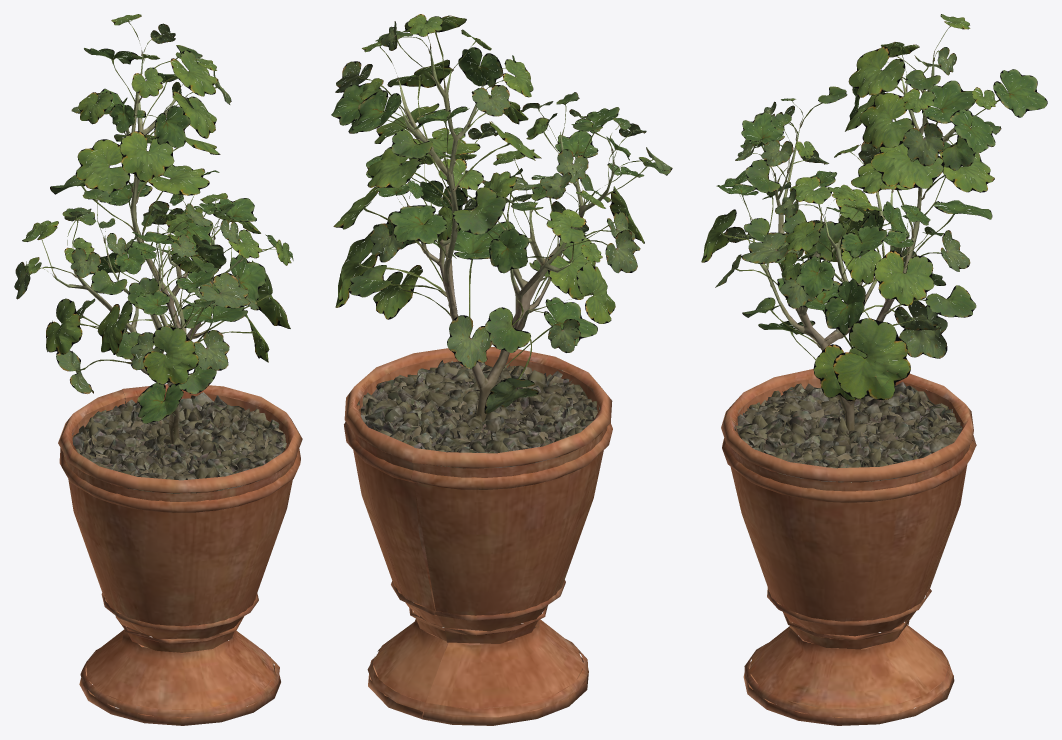
The model's file is potted_plant_01.glb.
The picture shows the model from 3 angles, left to right: view 1: azimuth 30°, elevation 25°; view 2: azimuth 150°, elevation 25°; view 3: azimuth 270°, elevation 25°; orthographic projection. The views are drawn at different scales.
Visible parts, largest first — view 1: potted_plant_01_pot, potted_plant_01_leaves, potted_plant_01_pebbles, potted_plant_01_stem; view 2: potted_plant_01_pot, potted_plant_01_leaves, potted_plant_01_pebbles, potted_plant_01_stem; view 3: potted_plant_01_pot, potted_plant_01_leaves, potted_plant_01_pebbles, potted_plant_01_stem.
Part boxes in pixels (x1=…): potted_plant_01_pot: x1=58, y1=384, x2=302, y2=725; potted_plant_01_leaves: x1=14, y1=14, x2=293, y2=423; potted_plant_01_pebbles: x1=72, y1=392, x2=288, y2=493; potted_plant_01_stem: x1=54, y1=54, x2=244, y2=443; potted_plant_01_pot: x1=344, y1=347, x2=612, y2=725; potted_plant_01_leaves: x1=331, y1=14, x2=672, y2=413; potted_plant_01_pebbles: x1=357, y1=360, x2=599, y2=468; potted_plant_01_stem: x1=399, y1=48, x2=613, y2=421; potted_plant_01_pot: x1=721, y1=369, x2=976, y2=725; potted_plant_01_leaves: x1=701, y1=14, x2=1047, y2=401; potted_plant_01_pebbles: x1=734, y1=382, x2=962, y2=482; potted_plant_01_stem: x1=752, y1=55, x2=967, y2=430.
Bounding box in the file's own units: 0.5871 × 1.34 × 0.6336.
Materials: 2 (2 with a texture image).
